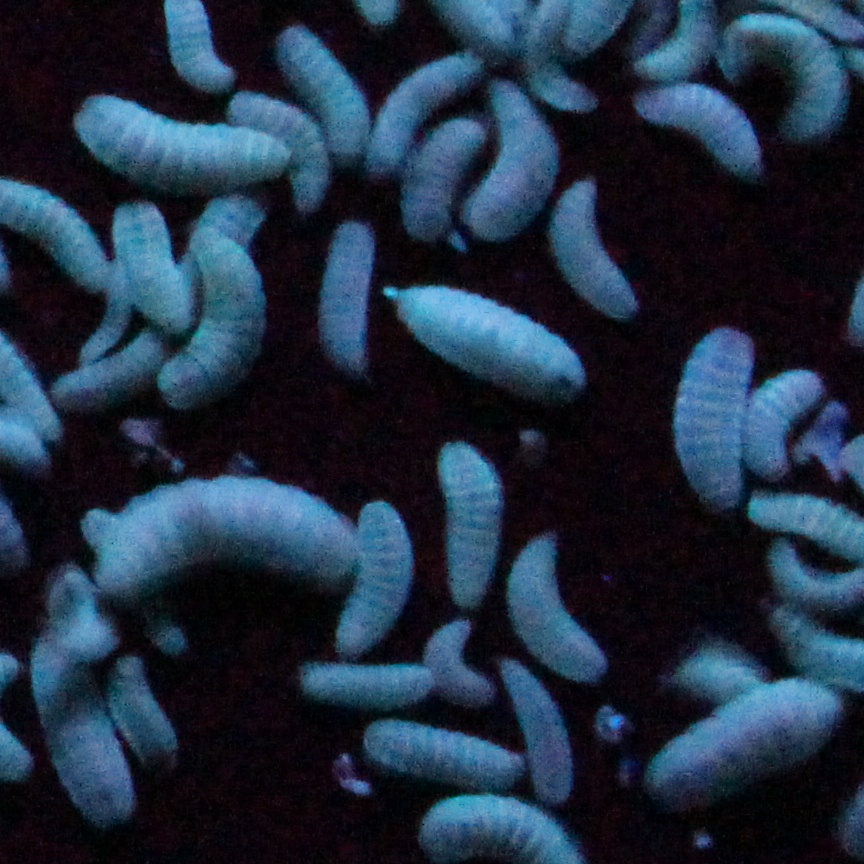larve: (89, 475, 360, 601), (641, 689, 841, 809), (389, 282, 585, 399), (70, 94, 289, 185), (32, 635, 139, 818), (706, 15, 853, 142), (160, 232, 266, 403), (503, 534, 615, 680), (673, 320, 756, 515), (468, 80, 553, 244), (554, 172, 637, 327), (375, 56, 484, 173), (330, 496, 405, 655), (397, 115, 489, 242), (434, 442, 503, 611), (363, 716, 527, 787), (641, 87, 766, 178), (277, 28, 361, 159), (108, 206, 189, 335), (316, 213, 373, 380), (111, 647, 182, 780), (304, 666, 439, 708)
